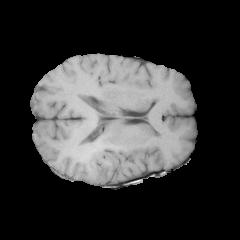glioma: (62, 122, 162, 183)
